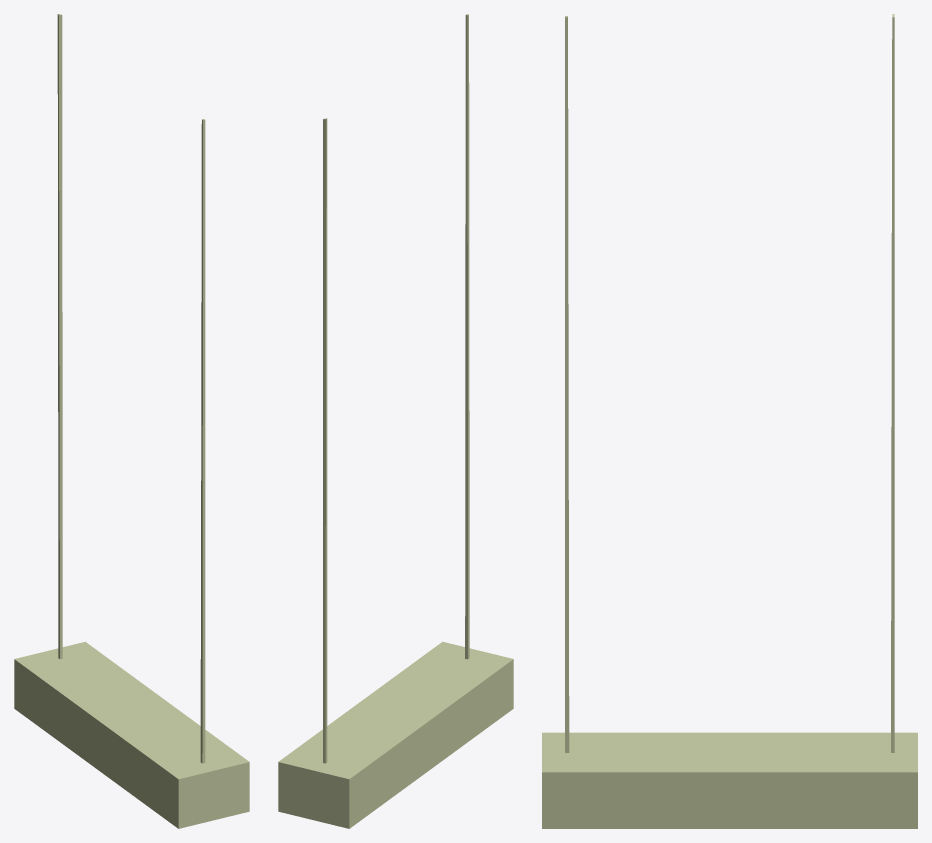
File: lampLong.fbx
The picture shows the model from 3 angles, left to right: view 1: azimuth 30°, elevation 25°; view 2: azimuth 150°, elevation 25°; view 3: azimuth 270°, elevation 25°; orthographic projection. The views are drawn at different scales.
Parts seen in each view (by area): view 1: Cube; view 2: Cube; view 3: Cube.
Part boxes in pixels (x1=…): Cube: x1=14, y1=14, x2=249, y2=828; Cube: x1=278, y1=14, x2=513, y2=828; Cube: x1=542, y1=14, x2=917, y2=828.
Size of the model in its own units: 60 by 559 by 240.
